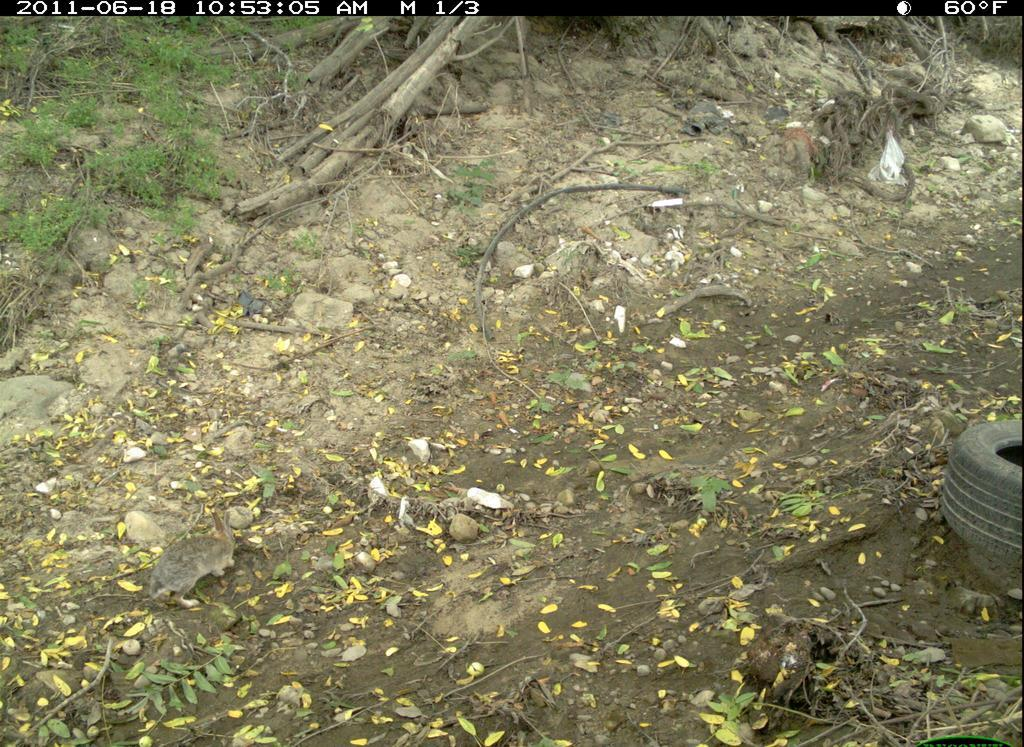rabbit: (139, 496, 265, 638)
